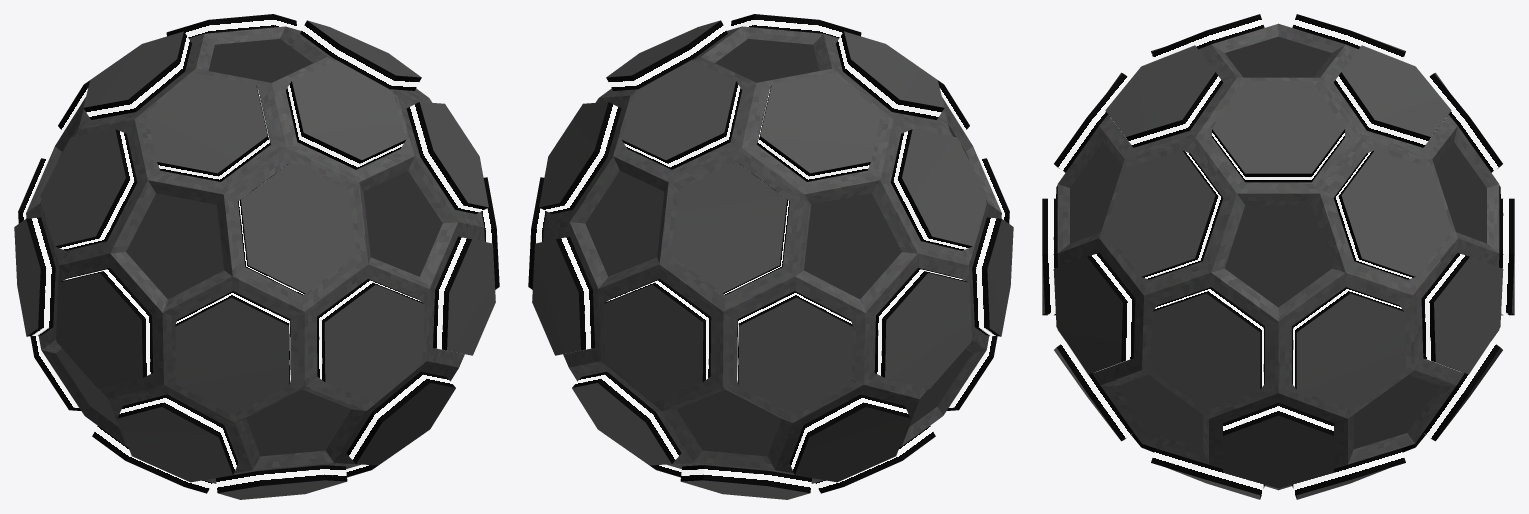
File: ball.glb
3 views of the same model, side by side, from view 1: azimuth 30°, elevation 25°; view 2: azimuth 150°, elevation 25°; view 3: azimuth 270°, elevation 25° (orthographic).
Parts seen in each view (by area): view 1: ball; view 2: ball; view 3: ball.
Boxes of the visible parts, bbox=[...] form: ball: bbox=[14, 14, 499, 499]; ball: bbox=[528, 14, 1013, 499]; ball: bbox=[1042, 14, 1514, 499].
Size of what is drawn, in the model's own units: 0.6318 by 0.5998 by 0.6157.
1 material, 1 textured.
